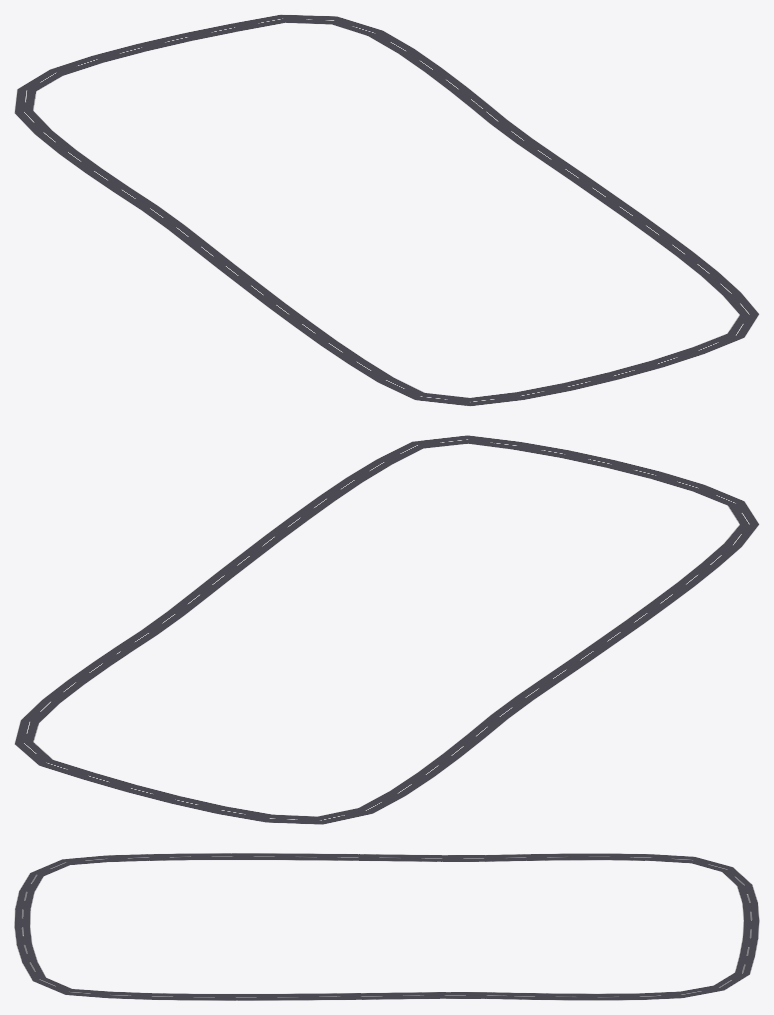
The model's file is map.obj.
3 views of the same model, one above another, from view 1: azimuth 30°, elevation 25°; view 2: azimuth 150°, elevation 25°; view 3: azimuth 270°, elevation 25° (orthographic). The views are drawn at different scales.
Parts seen in each view (by area): view 1: 平面.001; view 2: 平面.001; view 3: 平面.001.
Boxes of the visible parts, left/top/right/bottom form: 平面.001: left=14, top=14, right=759, bottom=406; 平面.001: left=14, top=435, right=759, bottom=824; 平面.001: left=14, top=853, right=759, bottom=1000.
Bounding box in the file's own units: 166 × 2e-06 × 354.
